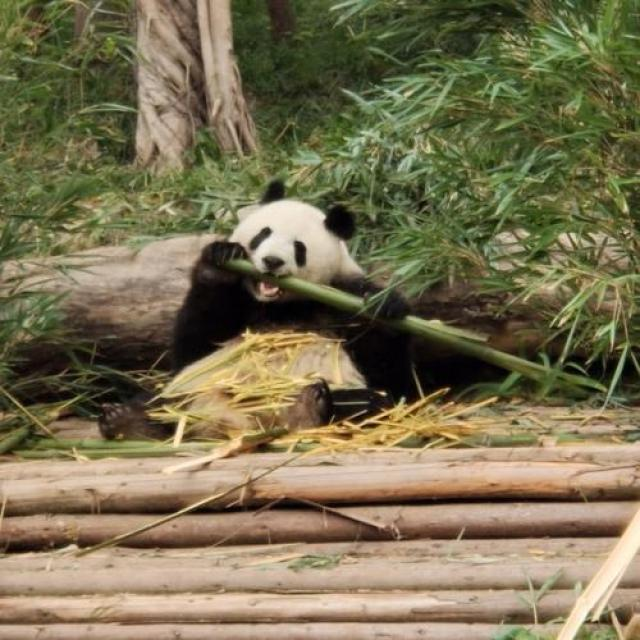panda: (134, 170, 495, 494)
